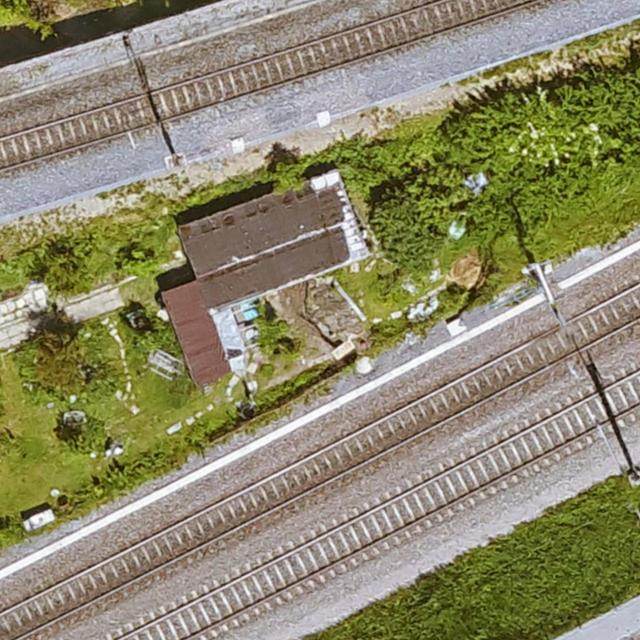tree: (17, 327, 94, 403), (376, 190, 442, 261)
